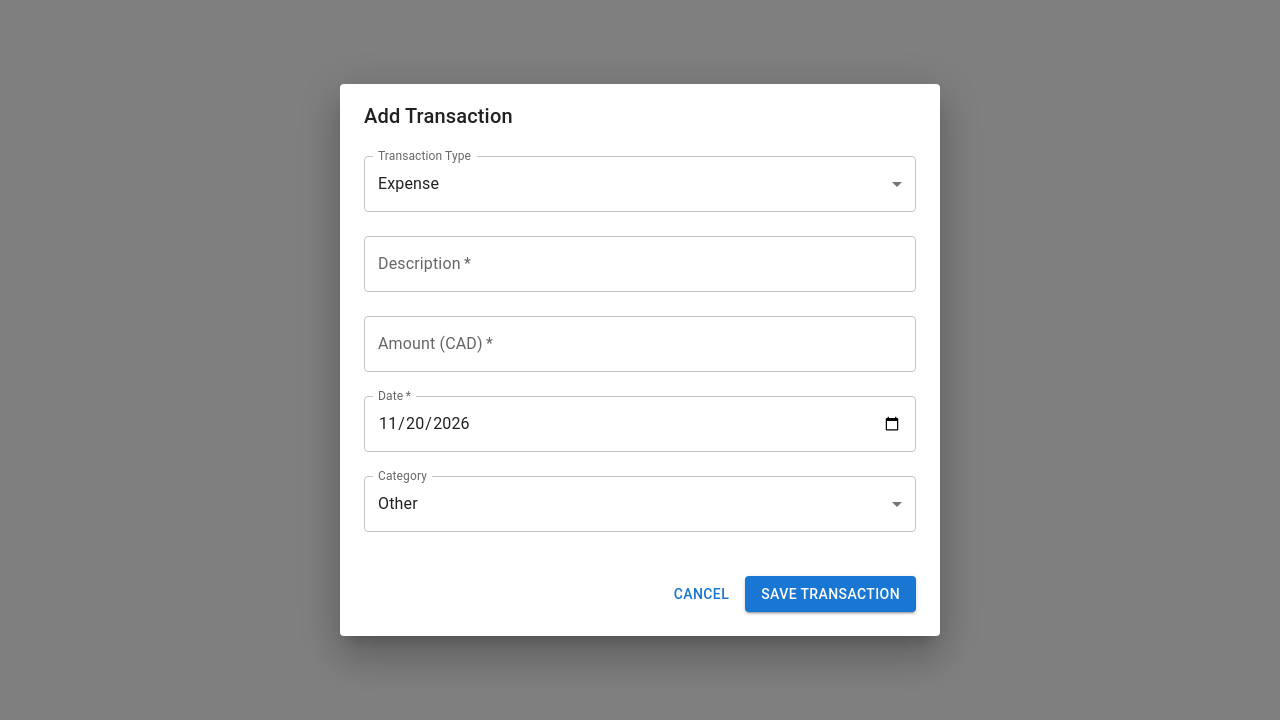
Test: TransactionForm error handling › displays an error if saving fails
Type "Walmart" into the field labelled "Description *" at (640, 264), box [364, 236, 916, 292]
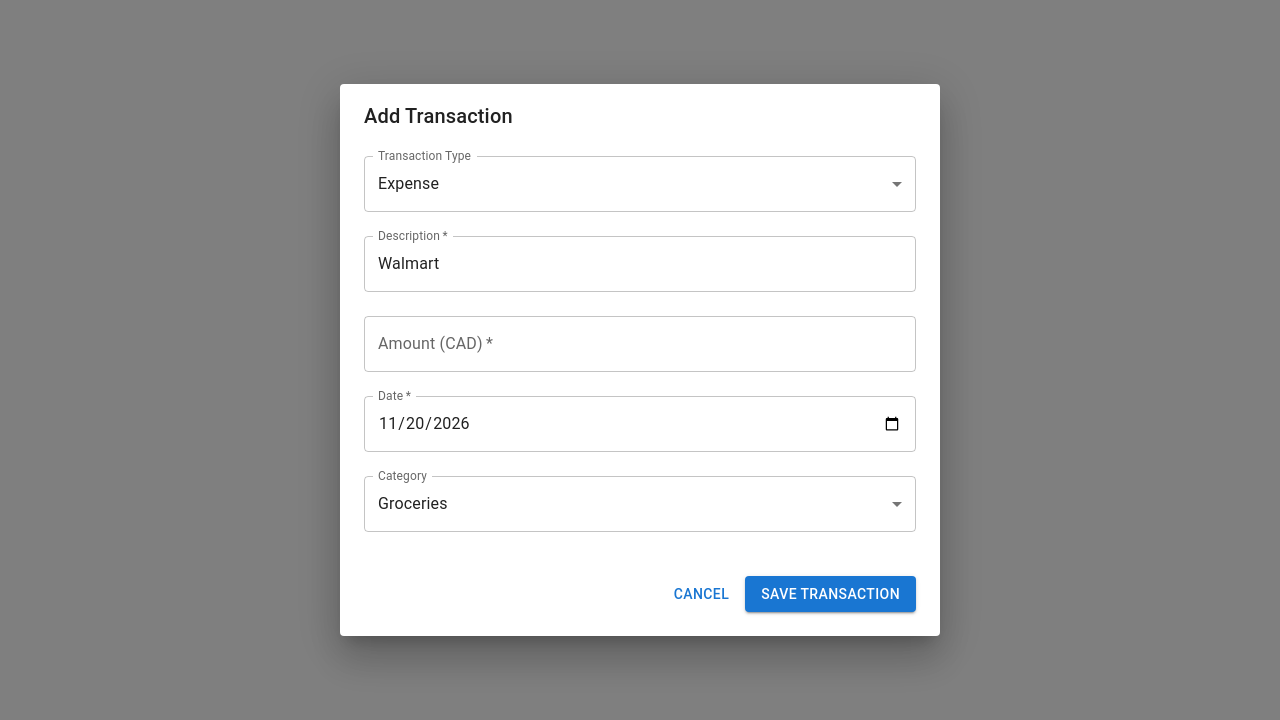
Type "25.50" into the number field labelled "Amount (CAD) *" at (640, 344), box [364, 316, 916, 372]
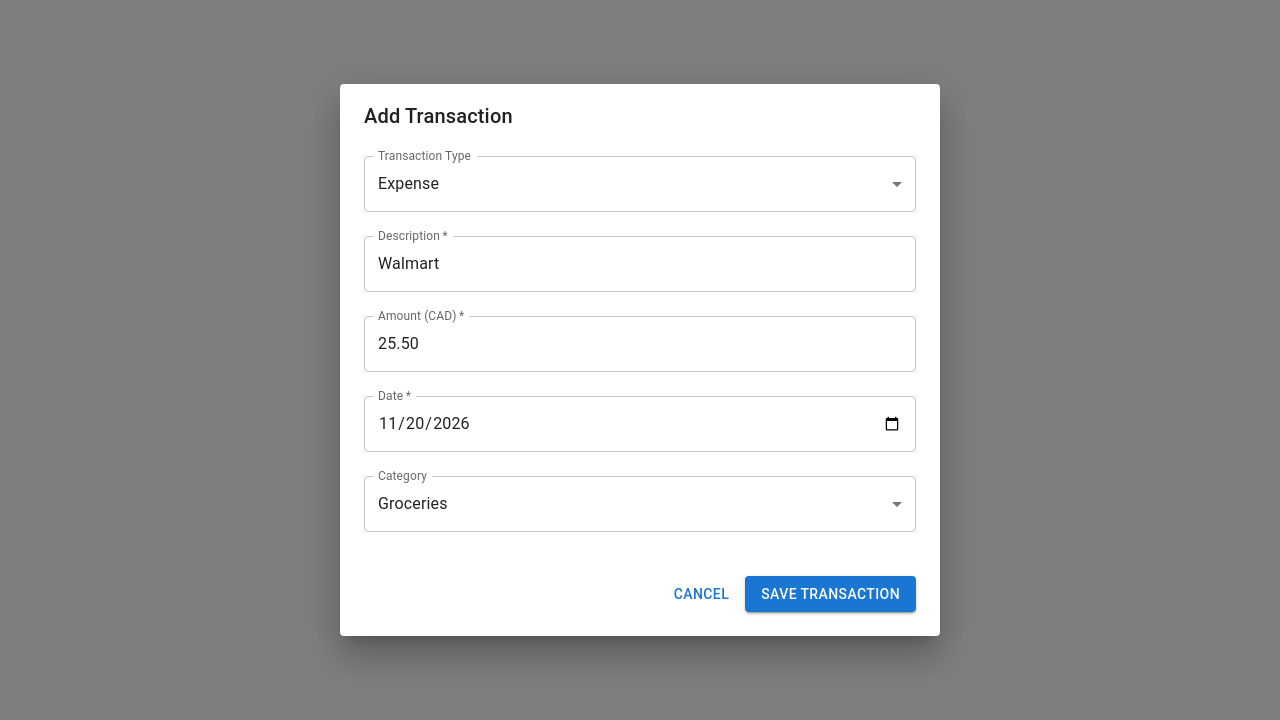
Submit the form named "Save Transaction", box [340, 84, 940, 636]
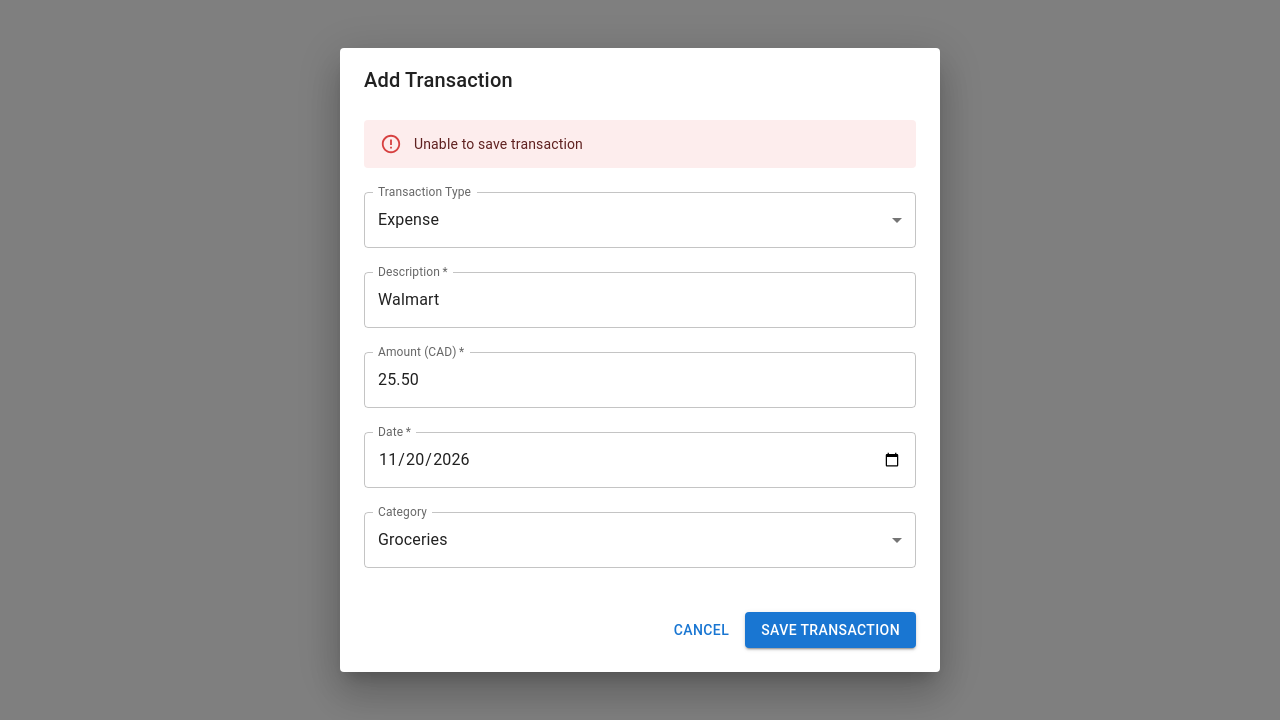
Result: the text "Unable to save transaction" is shown at [414, 136, 583, 152]
